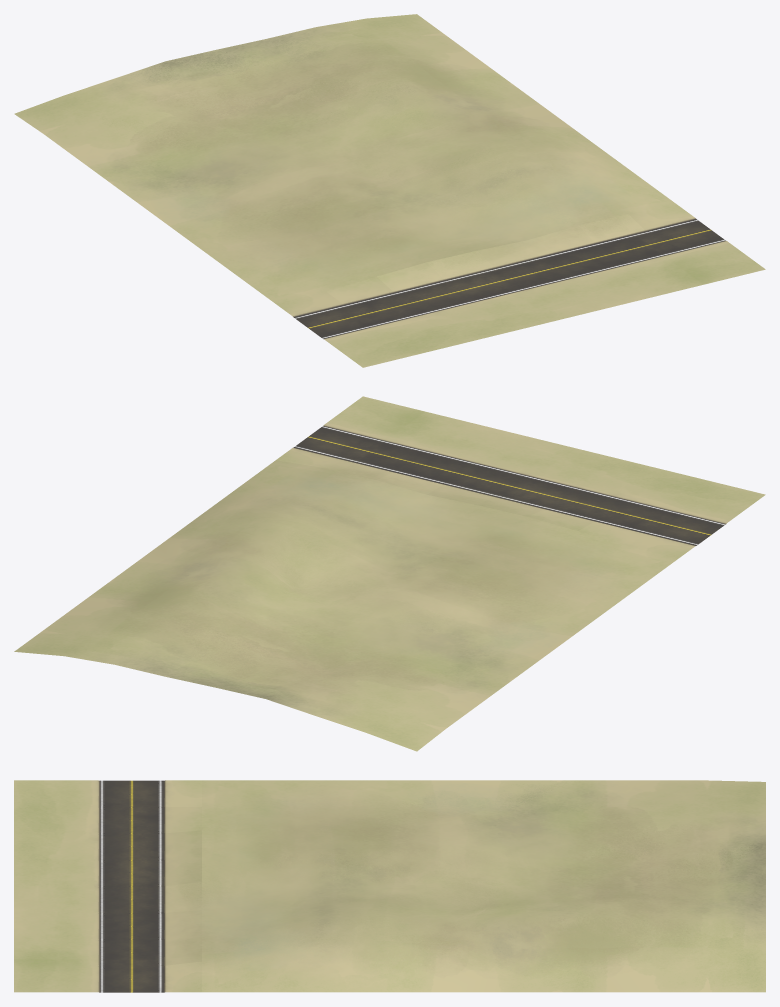
The model's file is chunk3.FBX.
3 views of the same model, one above another, from view 1: azimuth 30°, elevation 25°; view 2: azimuth 150°, elevation 25°; view 3: azimuth 270°, elevation 25° (orthographic). The views are drawn at different scales.
Visible parts, largest first — view 1: Plane001; view 2: Plane001; view 3: Plane001.
Part boxes in pixels (x1,y1,x2,y2): Plane001: (14,14,765,367); Plane001: (14,396,765,751); Plane001: (14,780,765,992).
Size of the model in its own units: 1575 by 84.69 by 2362.
